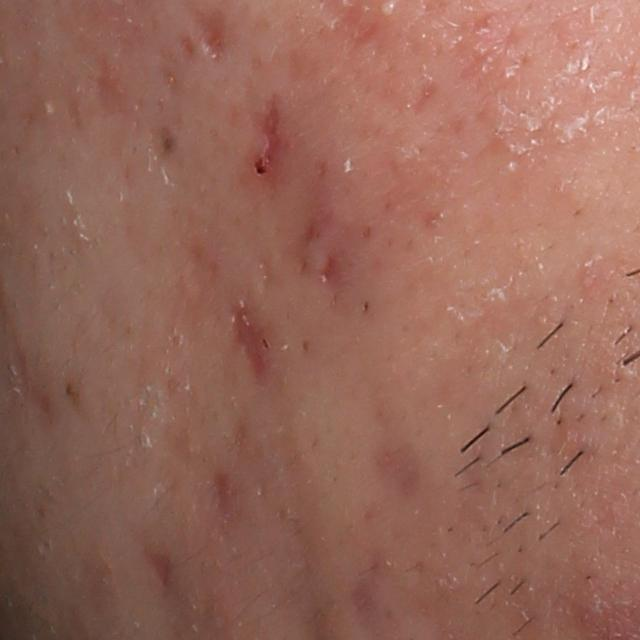atrophic_scar: (229, 306, 273, 385), (188, 10, 232, 64), (403, 76, 449, 124)
